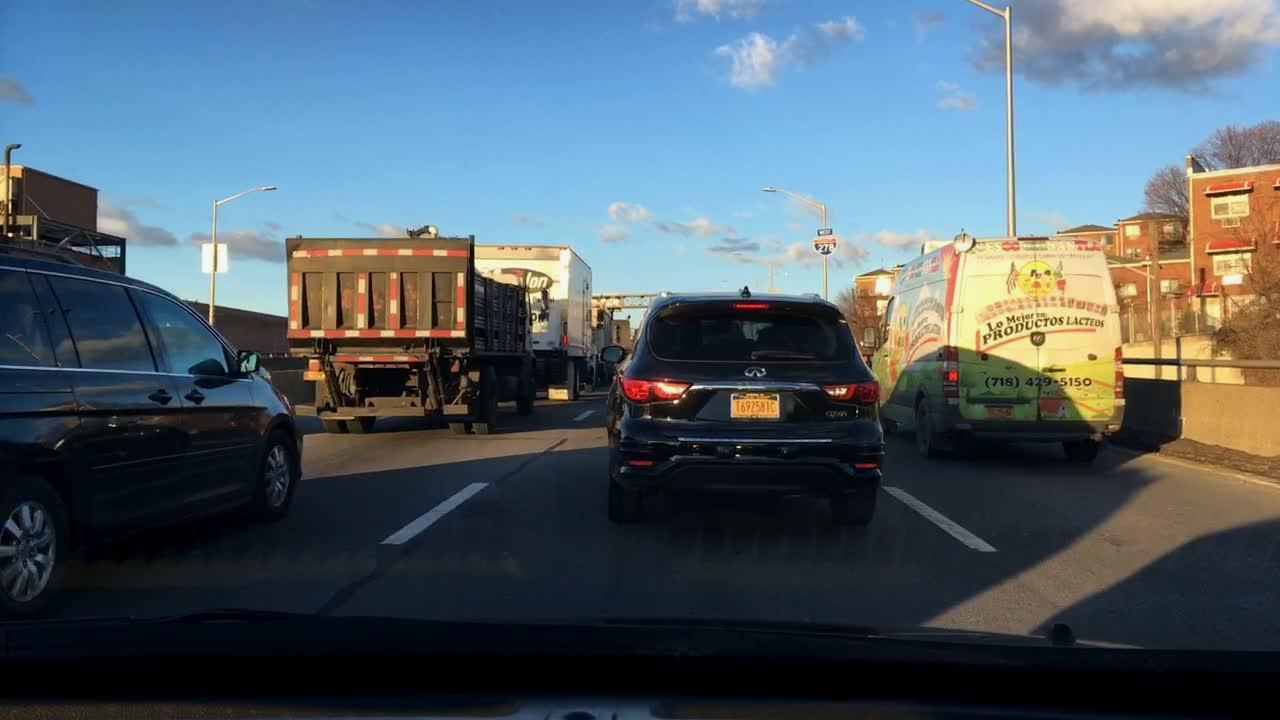Infiniti: (742, 362, 768, 382)
